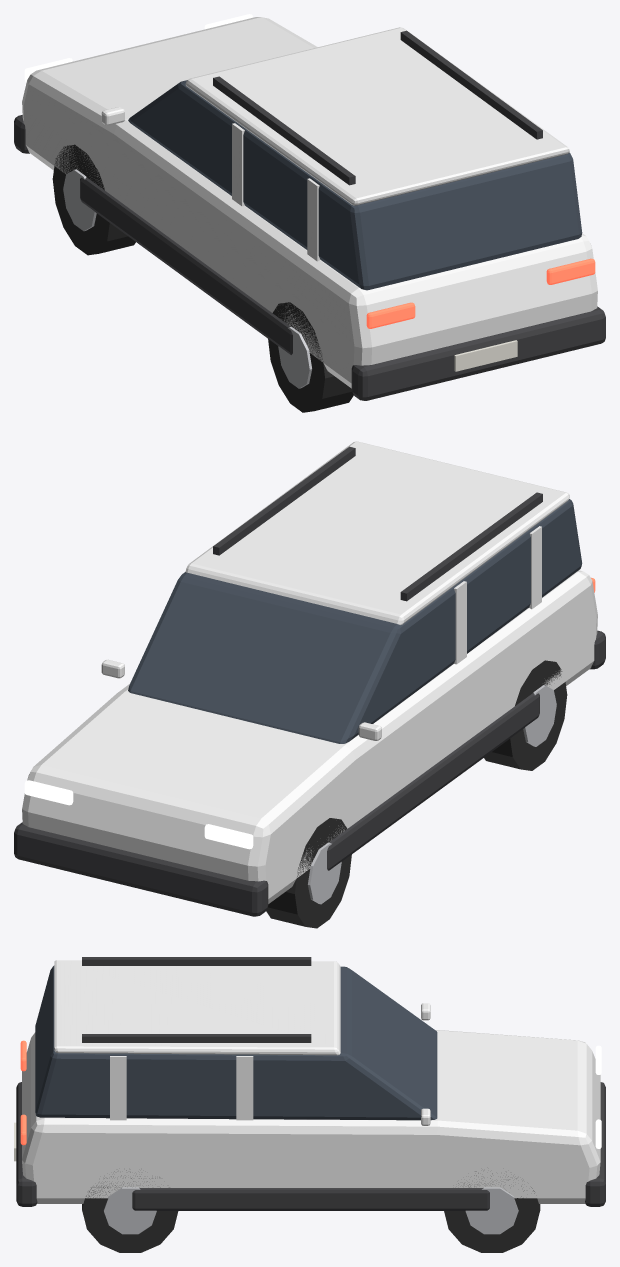
Rendered from car_suv.glb.
3 views of the same model, one above another, from view 1: azimuth 30°, elevation 25°; view 2: azimuth 150°, elevation 25°; view 3: azimuth 270°, elevation 25° (orthographic). The views are drawn at different scales.
Visible parts, largest first — view 1: car; view 2: car; view 3: car.
Part boxes in pixels (x1,y1,x2,y2): car: (14,14,605,412); car: (14,441,605,928); car: (14,957,605,1252).
Bounding box in the file's own units: 2.23 × 1.89 × 4.91.
